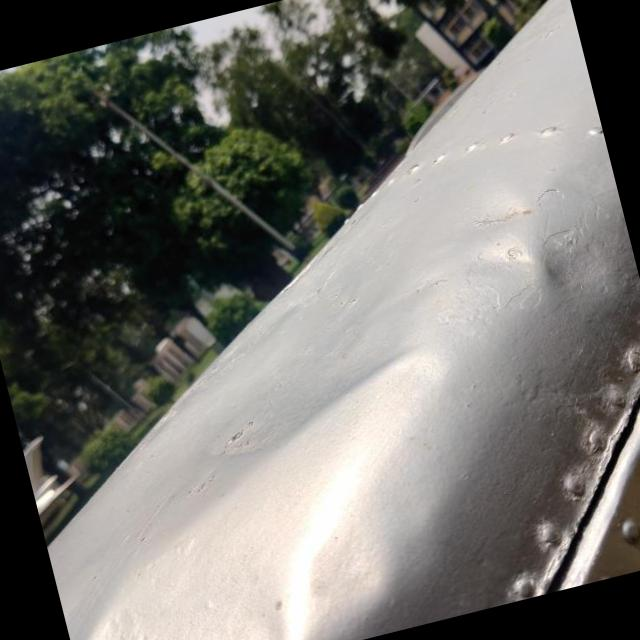Dent: (163, 171, 467, 502), (522, 200, 640, 314)
